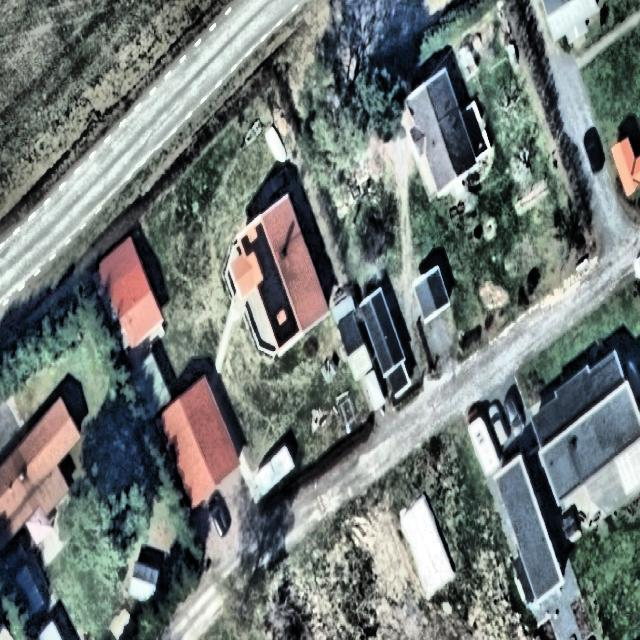roof_pv: (258, 268, 300, 348), (239, 215, 275, 267)
